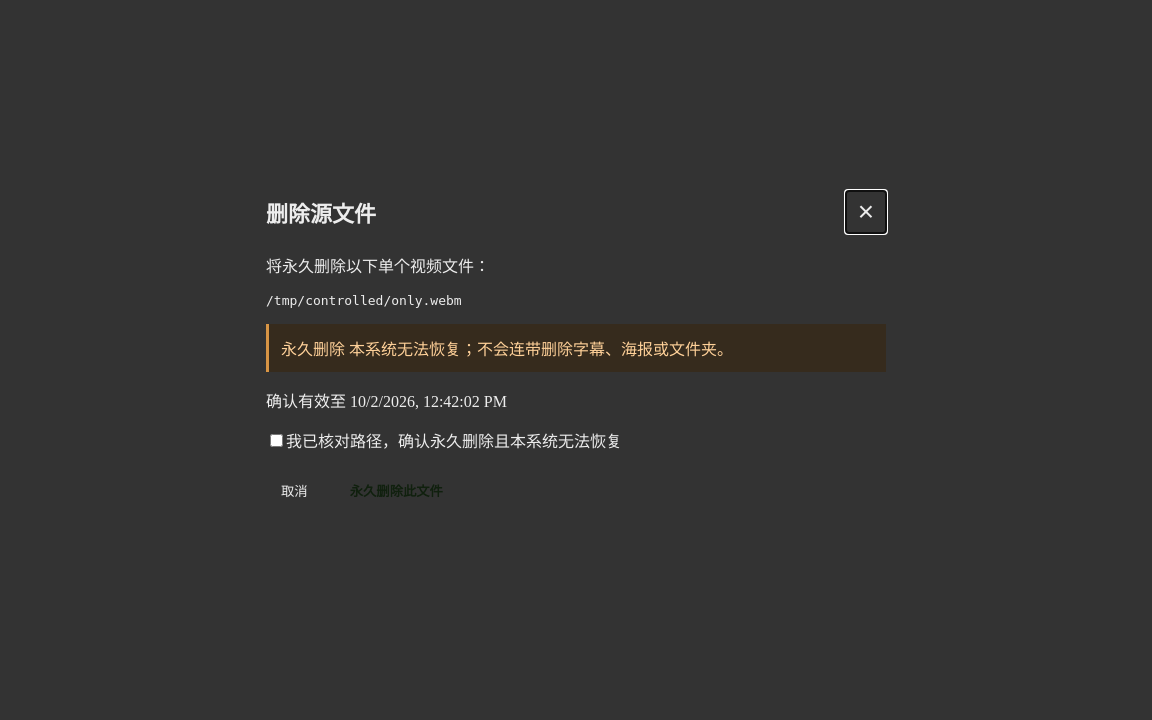
partial/unknown delete has a terminal non-retry result: {"code":"NETWORK_ERROR","status":0,"retryable":false,"requestId":null,"name":"APIError"}
Expected: the text "/tmp/controlled/only.webm" is shown, [266,293,462,308]
Click the checkbox at (276, 440), box [270,434,283,447]
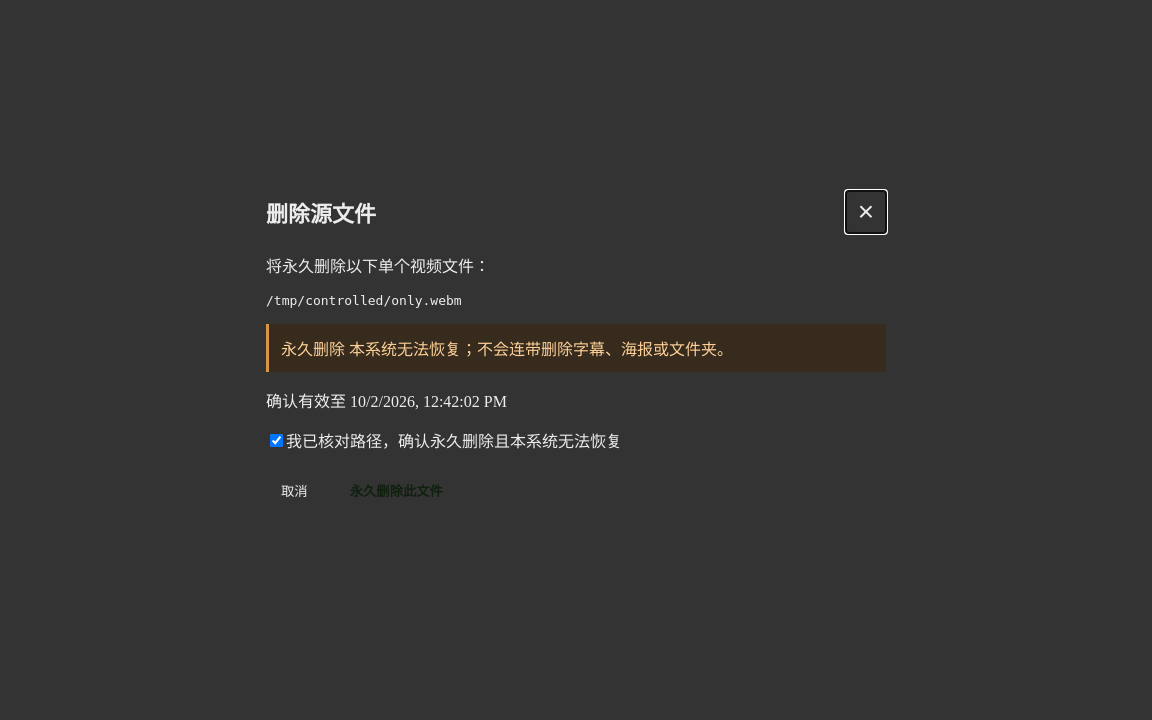
Click the button "永久删除此文件" at (396, 490), box [335,472,458,509]
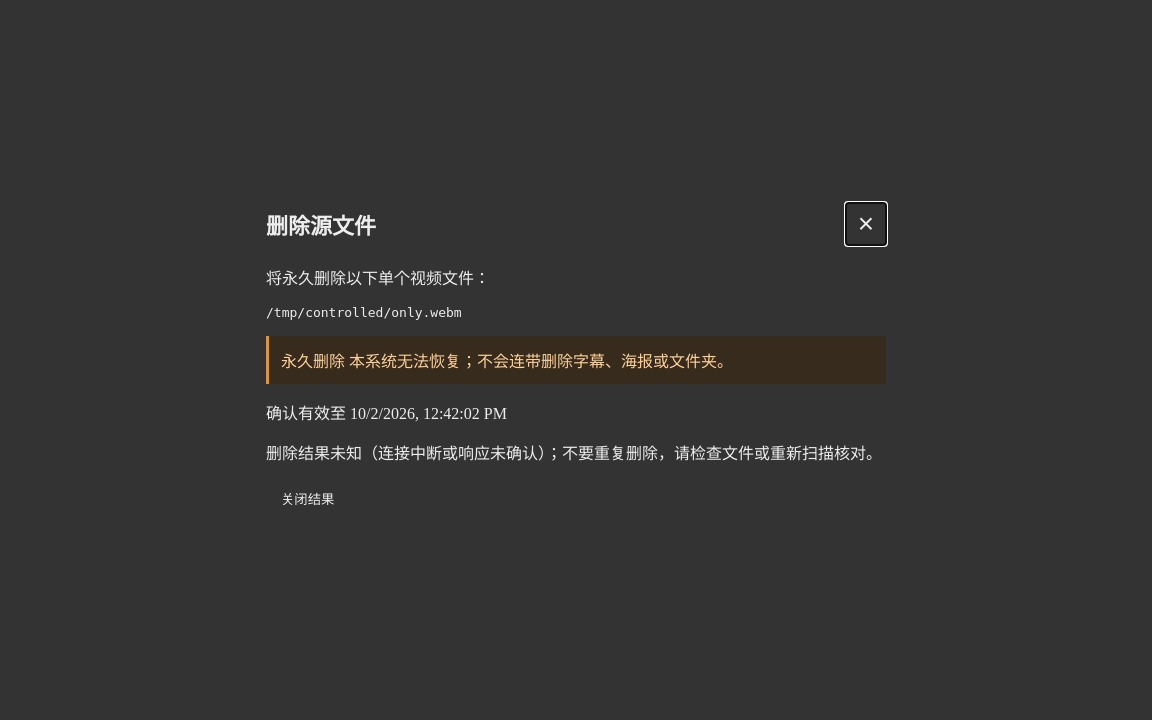
Result: the text "删除结果未知（连接中断或响应未确认）；不要重复删除，请检查文件或重新扫描核对。" is shown at [266,440,886,464]
Result: the button "永久删除此文件" is gone
